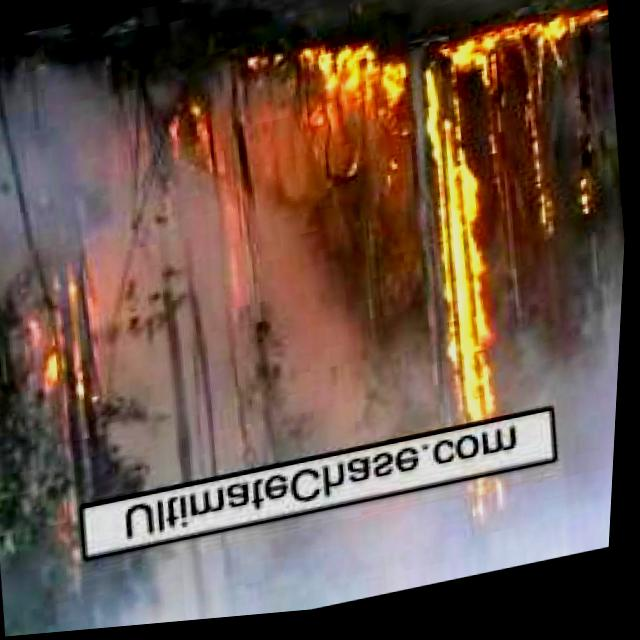helmet: (407, 23, 529, 435), (16, 269, 109, 434), (287, 26, 409, 137), (156, 96, 216, 189), (507, 18, 601, 64)
no_helmet: (81, 140, 457, 493), (3, 454, 620, 638), (0, 31, 149, 263)
